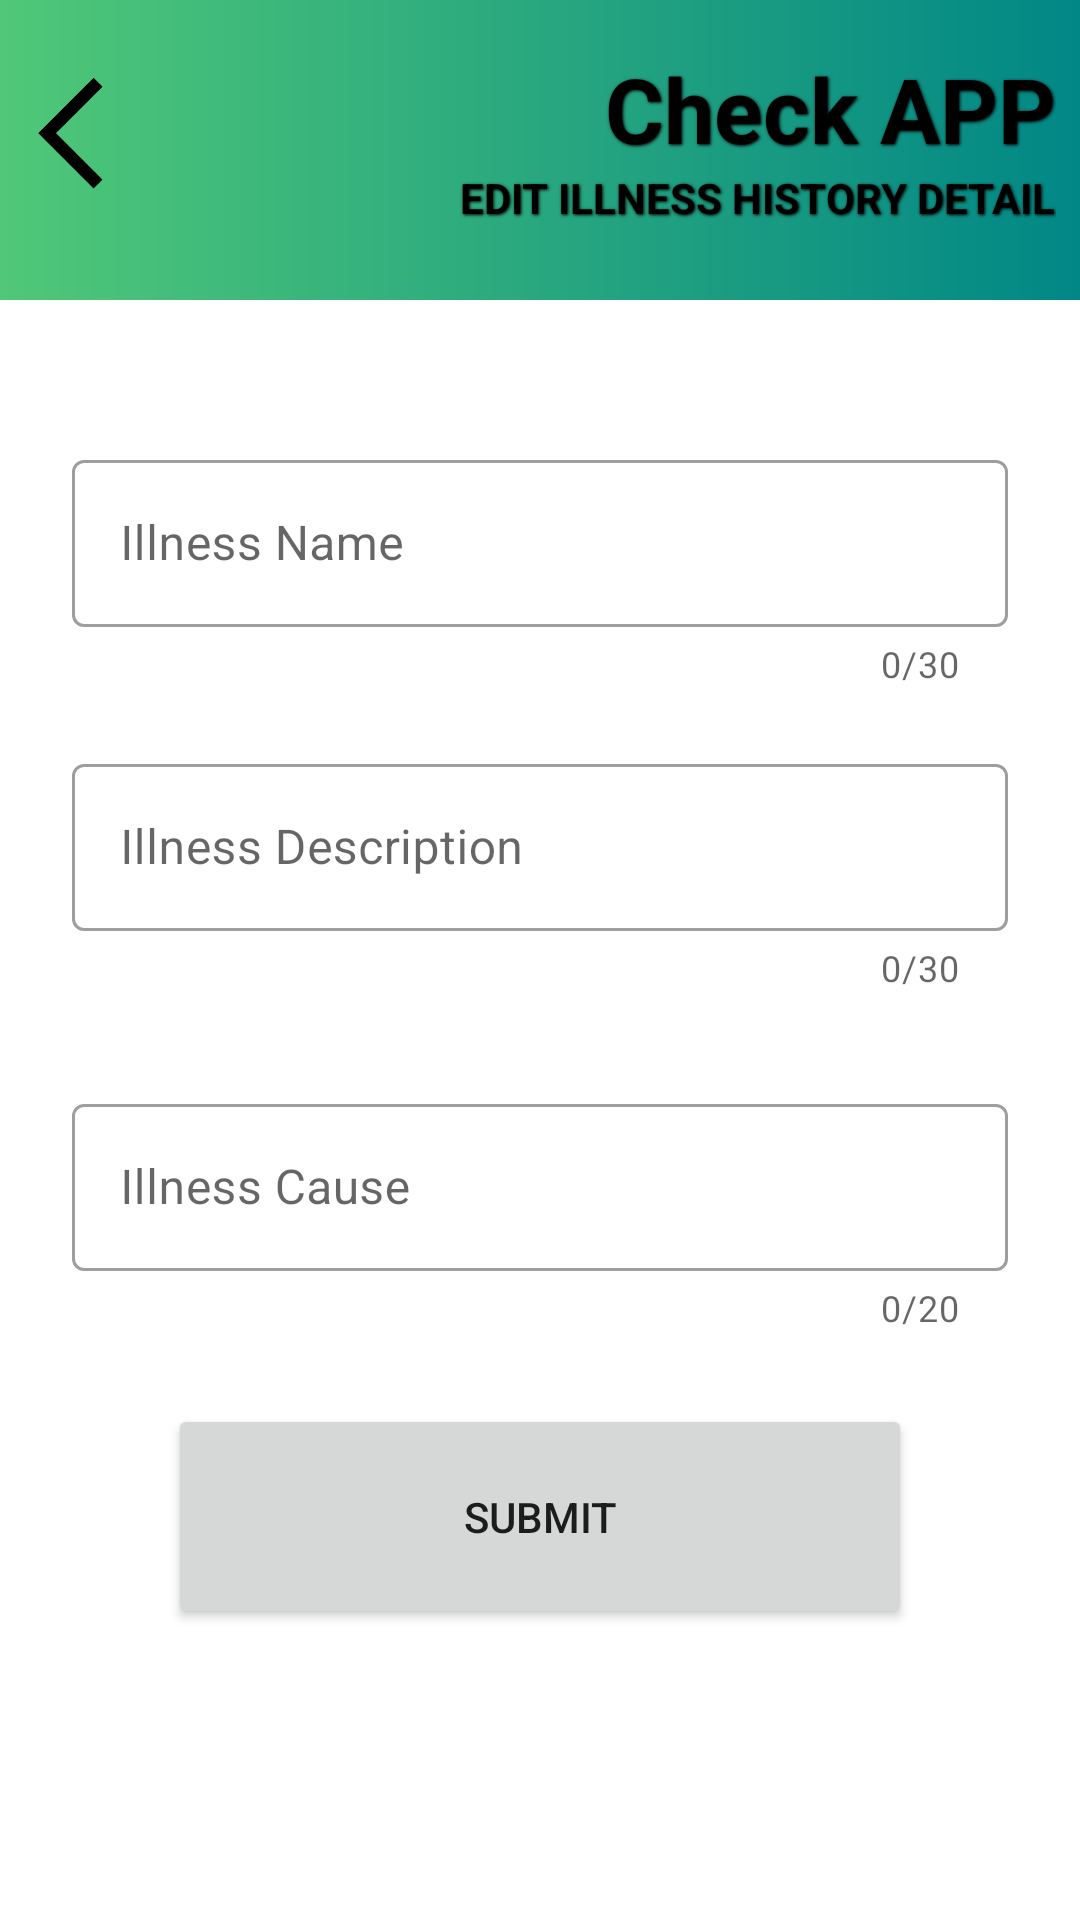

Named icons in this screenshot (1080w x 1920h) and their centers, (x,y):
backbutton: (70,133)
